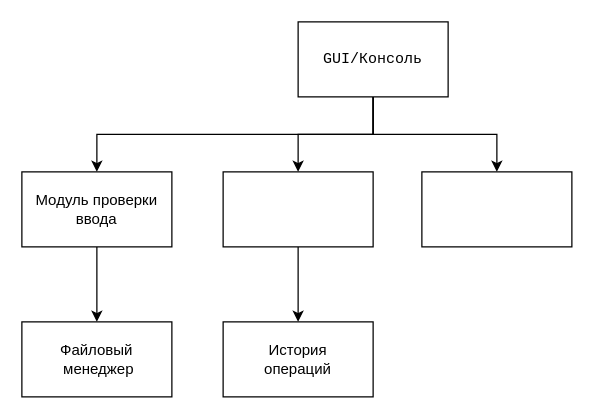
This 594x419 diagram has some shape labels left out. Here are the shapes that lost their labels. From the top down, the box of each, then its label:
(222, 171, 373, 247): Вычислительный модуль
(421, 171, 572, 247): Модуль ошибок и логирования
